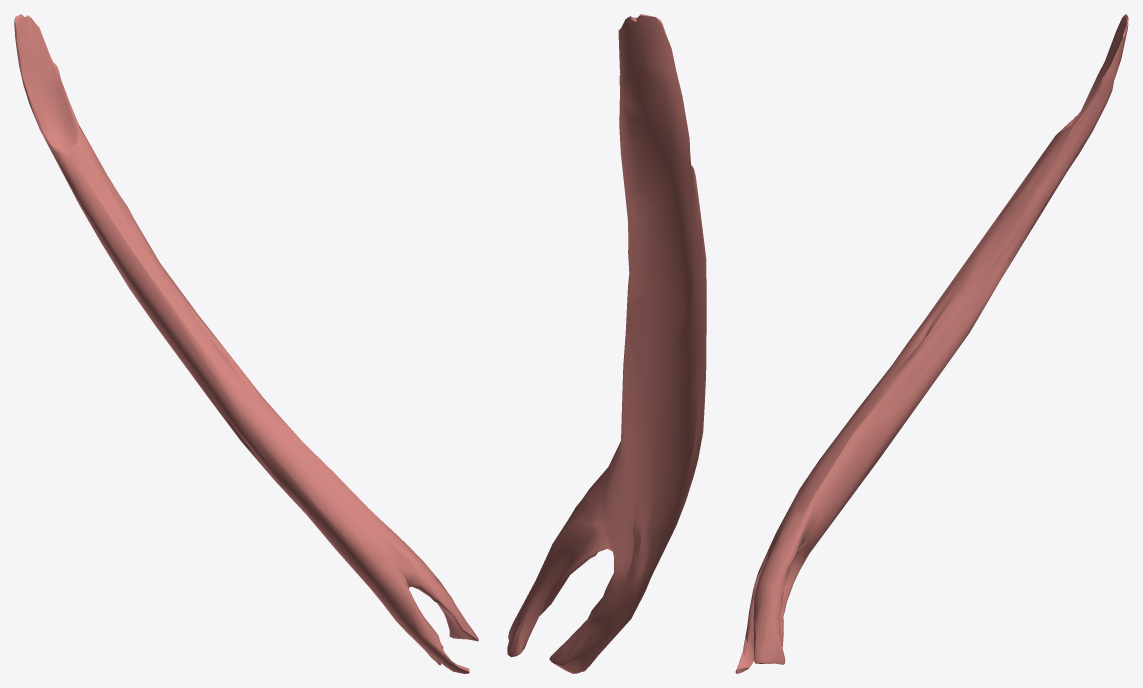
File: fma45826_fj1598.glb
The picture shows the model from 3 angles, left to right: view 1: azimuth 30°, elevation 25°; view 2: azimuth 150°, elevation 25°; view 3: azimuth 270°, elevation 25°; orthographic projection. The views are drawn at different scales.
Visible parts, largest first — view 1: FMA45826_FJ1598; view 2: FMA45826_FJ1598; view 3: FMA45826_FJ1598.
Boxes of the visible parts, x1=… form: FMA45826_FJ1598: x1=14, y1=14, x2=478, y2=673; FMA45826_FJ1598: x1=507, y1=14, x2=706, y2=673; FMA45826_FJ1598: x1=735, y1=14, x2=1128, y2=673.
Bounding box in the file's own units: 0.0304 × 0.0601 × 0.0394.
